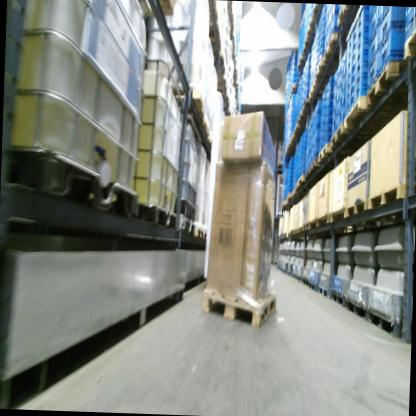pallet: (197, 277, 279, 328), (343, 93, 404, 136), (367, 58, 408, 112), (328, 118, 387, 153), (366, 306, 402, 341), (173, 85, 206, 121), (319, 141, 363, 166), (322, 29, 352, 64), (133, 0, 181, 20), (314, 56, 342, 83), (309, 76, 334, 101), (207, 19, 223, 54), (343, 299, 367, 322), (404, 18, 416, 61), (338, 6, 358, 31), (190, 120, 209, 140), (301, 99, 322, 117), (309, 158, 330, 175), (305, 18, 320, 40), (299, 173, 320, 188), (331, 288, 345, 309), (296, 51, 309, 70), (305, 167, 323, 180), (292, 124, 307, 139), (288, 135, 303, 150), (301, 37, 315, 53), (317, 285, 332, 299), (193, 225, 205, 242), (291, 187, 306, 200), (312, 4, 327, 17), (294, 181, 310, 193), (297, 112, 309, 125), (307, 279, 319, 291), (301, 276, 310, 287), (286, 194, 294, 202), (297, 274, 303, 282), (292, 272, 297, 280), (282, 268, 286, 276), (286, 272, 292, 276)
small_load_carrier: (378, 30, 404, 77), (377, 8, 404, 45), (365, 53, 379, 90), (368, 28, 379, 70), (403, 8, 416, 43), (355, 7, 369, 36), (354, 21, 369, 47), (353, 35, 368, 58), (354, 47, 368, 71), (338, 103, 352, 127), (369, 10, 380, 39), (354, 61, 367, 83), (354, 76, 366, 98), (340, 76, 353, 96), (378, 7, 393, 24), (341, 49, 351, 73), (403, 9, 416, 27), (339, 91, 352, 108), (341, 63, 352, 83), (347, 19, 355, 46), (354, 90, 366, 107), (345, 98, 354, 118), (345, 89, 354, 109), (346, 56, 355, 76), (346, 78, 355, 97), (346, 67, 354, 88), (331, 116, 339, 135), (369, 6, 379, 21), (333, 67, 340, 88), (332, 101, 339, 121), (347, 48, 354, 67), (347, 39, 354, 54), (333, 90, 339, 106), (335, 78, 340, 92)
